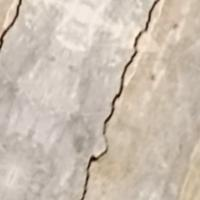crack: (0, 0, 160, 199)
